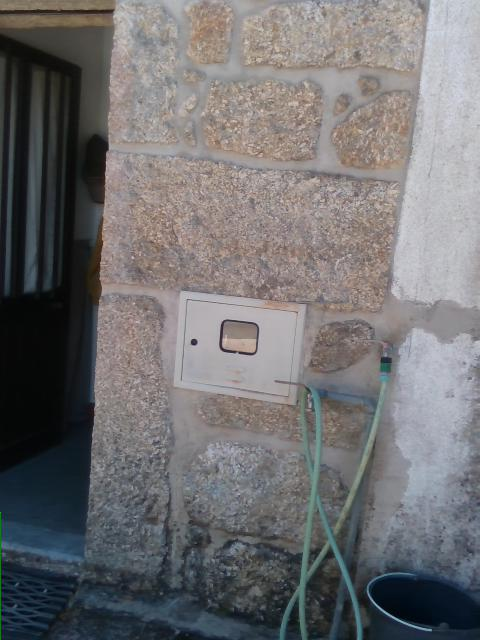door: (1, 32, 80, 479)
